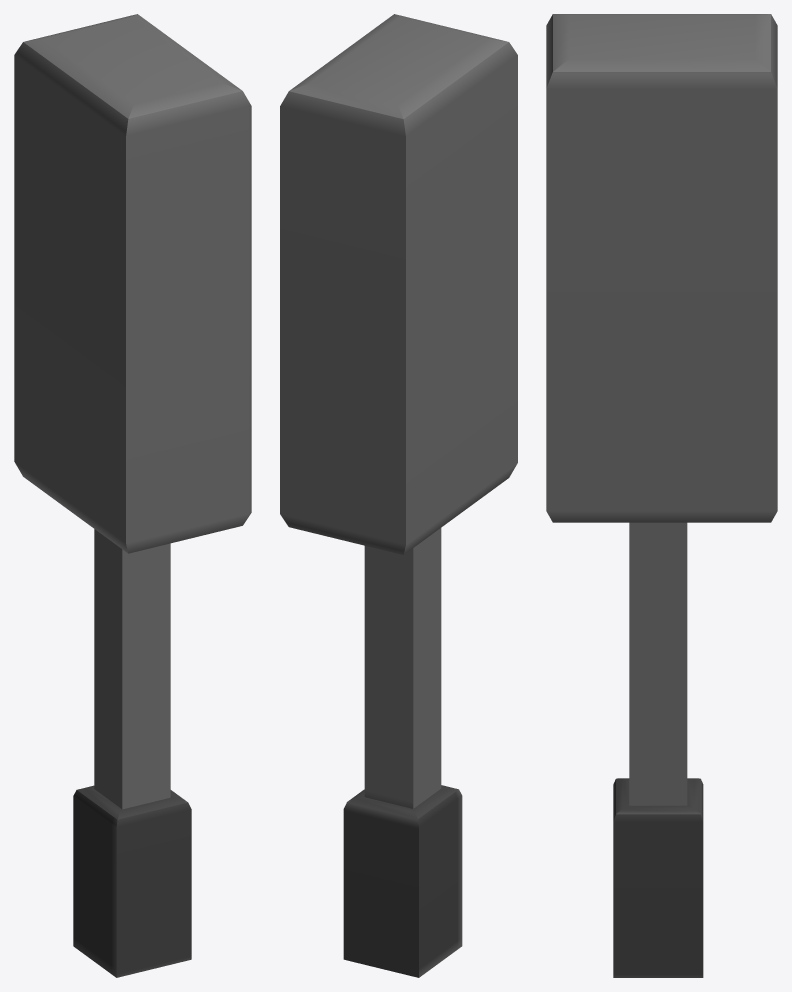
File: TrafficLight_1.fbx
The picture shows the model from 3 angles, left to right: view 1: azimuth 30°, elevation 25°; view 2: azimuth 150°, elevation 25°; view 3: azimuth 270°, elevation 25°; orthographic projection. The views are drawn at different scales.
Visible parts, largest first — view 1: polySurface666; view 2: polySurface666; view 3: polySurface666.
Boxes of the visible parts, bbox=[...] form: polySurface666: bbox=[14, 14, 251, 977]; polySurface666: bbox=[280, 14, 517, 977]; polySurface666: bbox=[546, 14, 777, 977].
Bounding box in the file's own units: 0.3912 × 2.65 × 0.6024.
